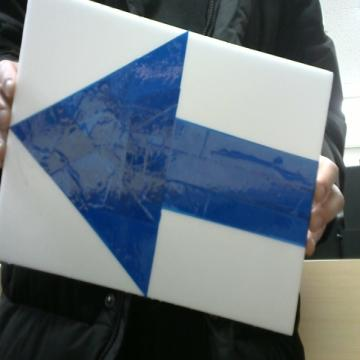blue_left: (12, 32, 317, 295)
